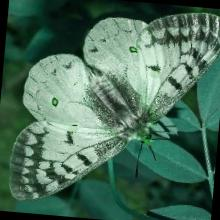butterfly: (10, 12, 220, 199)
